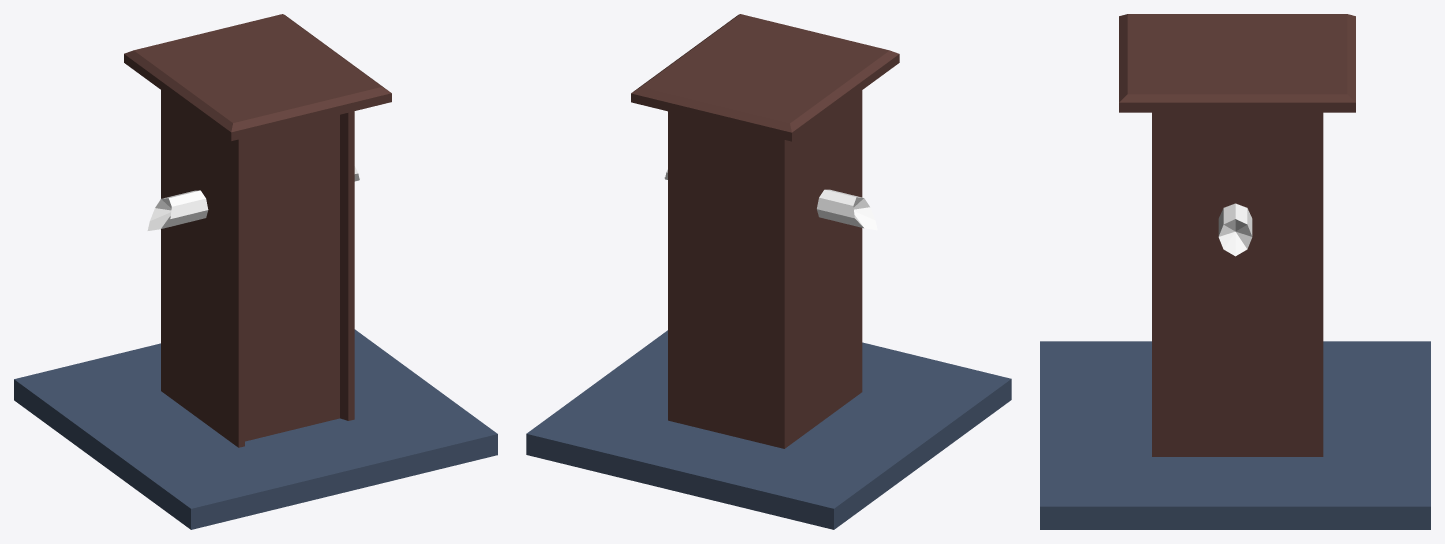
The model's file is AntonioCenarioFase1.fbx_Bebedouro.fbx.
3 views of the same model, side by side, from view 1: azimuth 30°, elevation 25°; view 2: azimuth 150°, elevation 25°; view 3: azimuth 270°, elevation 25° (orthographic). The views are drawn at different scales.
Parts seen in each view (by area): view 1: Bebedouro; view 2: Bebedouro; view 3: Bebedouro.
Boxes of the visible parts, bbox=[...] form: Bebedouro: bbox=[14, 14, 497, 529]; Bebedouro: bbox=[526, 14, 1011, 529]; Bebedouro: bbox=[1040, 14, 1430, 529].
Size of the model in its own units: 400 by 446 by 400.
